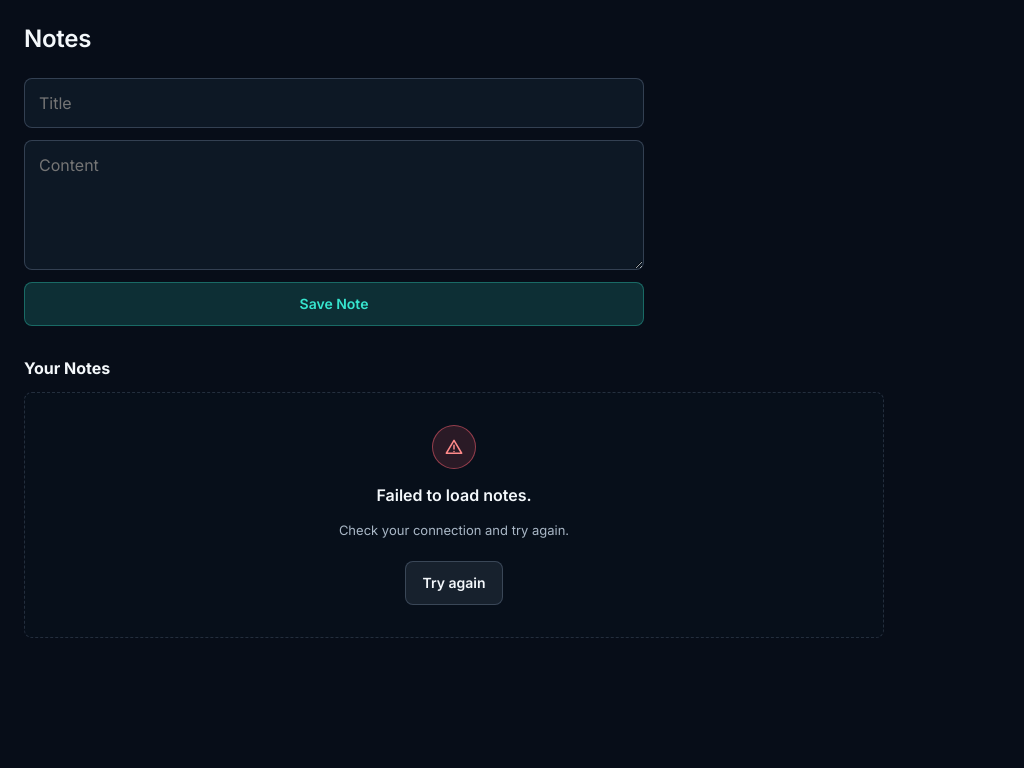
Test: NotesPage › shows an error and loads again when 'Try again' is clicked
Expected: the heading "Failed to load notes." is shown, [376, 485, 532, 505]
Click the button "Try again". click: click(454, 582)
box: [406, 560, 503, 604]
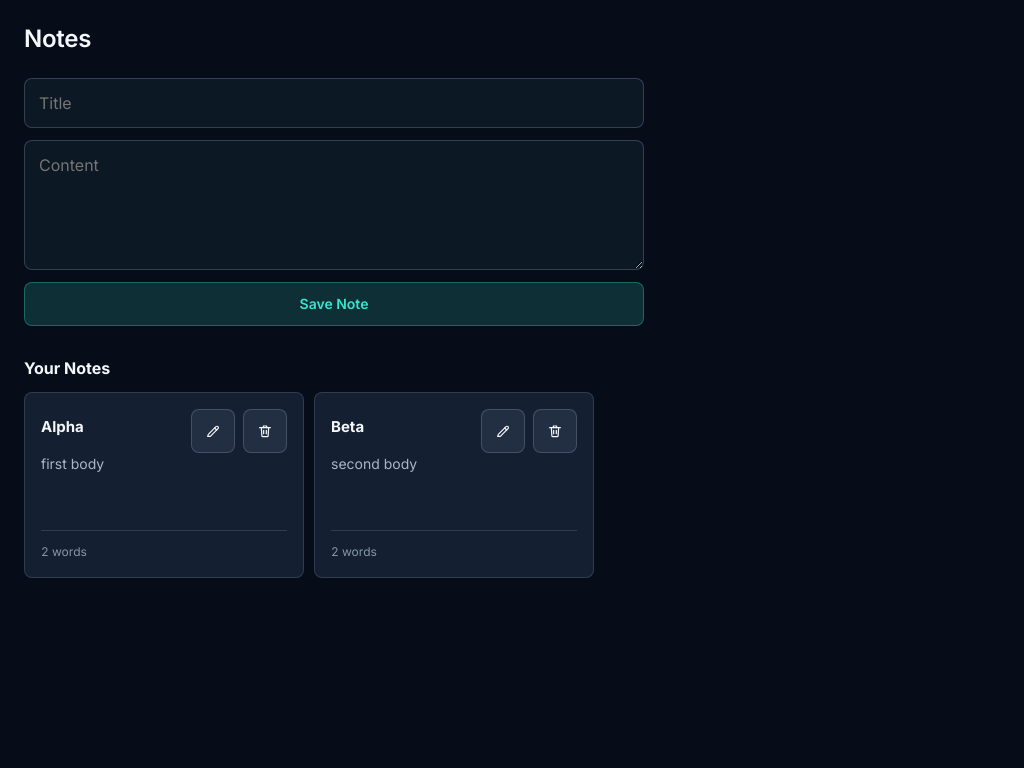
Expected: the heading "Alpha" is shown, [41, 417, 84, 436]
Expected: the heading "Failed to load notes." is gone
